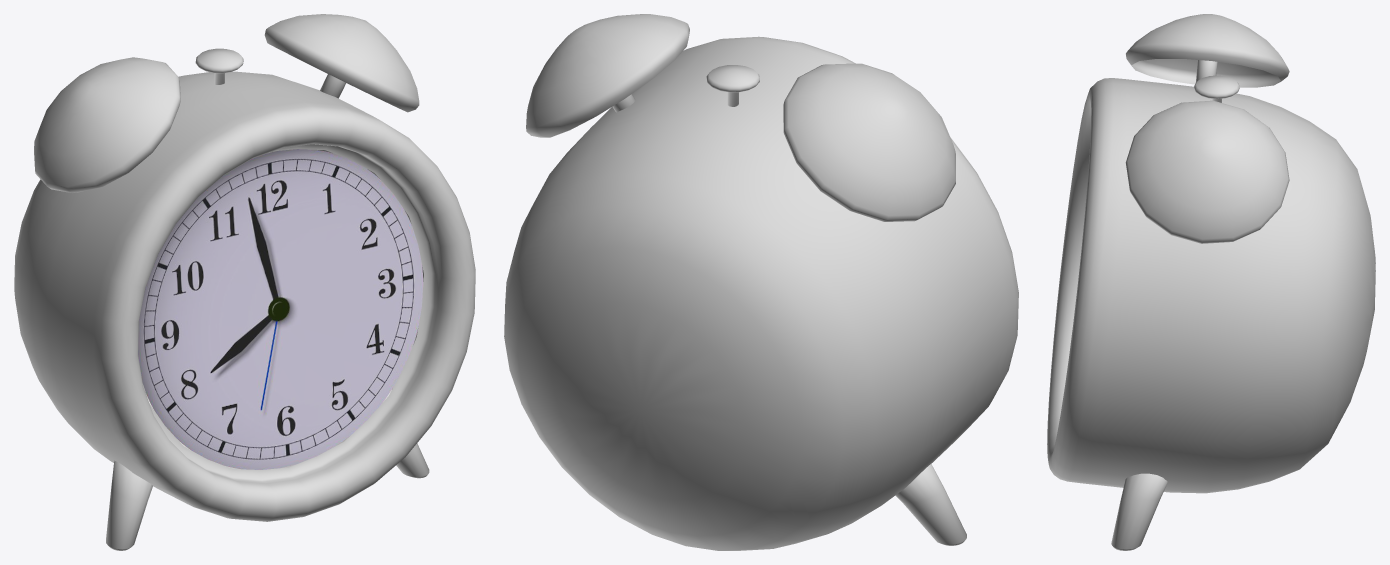
File: calarsaat.fbx
3 views of the same model, side by side, from view 1: azimuth 30°, elevation 25°; view 2: azimuth 150°, elevation 25°; view 3: azimuth 270°, elevation 25° (orthographic). The views are drawn at different scales.
Visible parts, largest first — view 1: calarsaat_Gövde, saat_UV, metal; view 2: calarsaat_Gövde, metal; view 3: calarsaat_Gövde, metal.
Part boxes in pixels (x1,y1,x2,y2): calarsaat_Gövde: (14,14,475,521); saat_UV: (138,149,423,469); metal: (106,48,429,550); calarsaat_Gövde: (504,14,1018,550); metal: (612,65,966,545); calarsaat_Gövde: (1047,14,1375,493); metal: (1111,60,1239,550).
Bounding box in the file's own units: 10.35 × 11.52 × 8.36.
